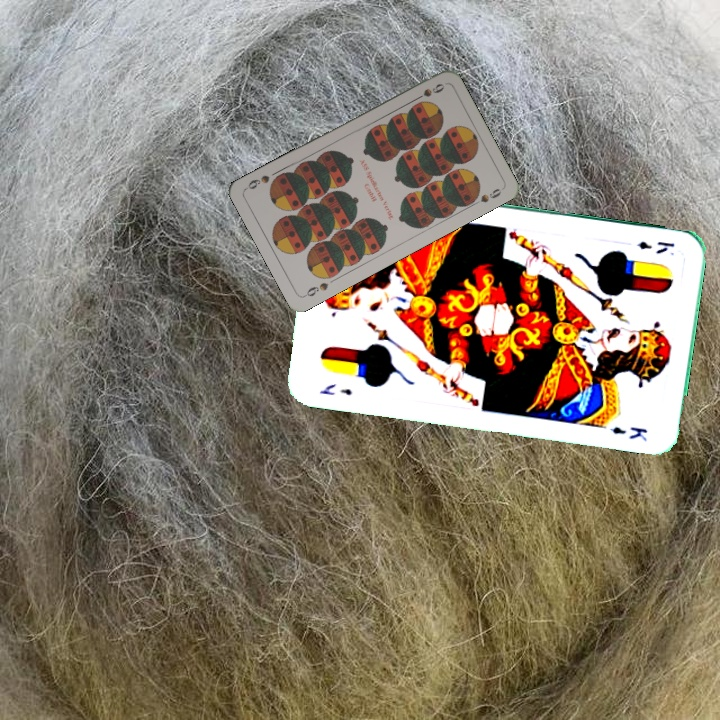EK: (634, 237, 678, 257), (315, 379, 355, 398)
S9: (409, 79, 447, 104), (300, 278, 331, 300)
